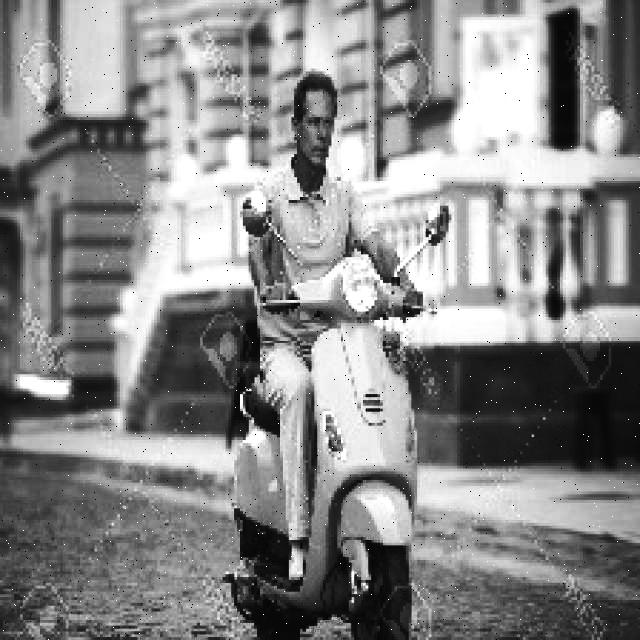Bike: (226, 278, 436, 640)
